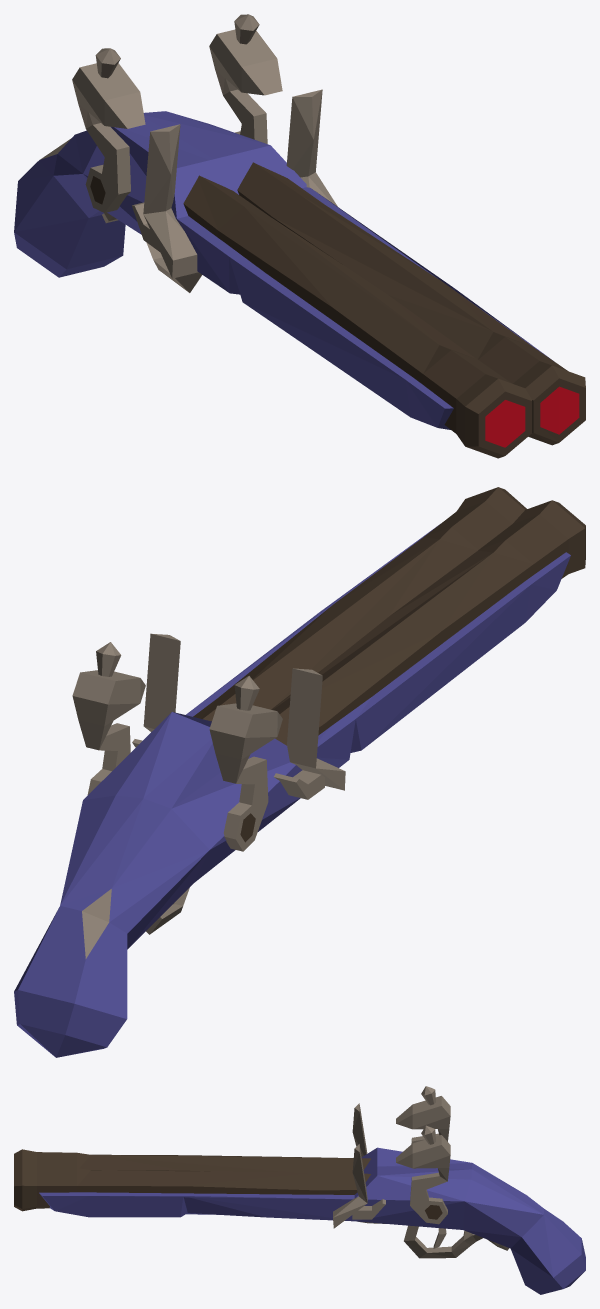
The model's file is SM_Wep_MusketPistol_DoubleBarrel_01_Separate.glb.
3 renders of one model, top to bottom at view 1: azimuth 30°, elevation 25°; view 2: azimuth 150°, elevation 25°; view 3: azimuth 270°, elevation 25°, orthographic. The views are drawn at different scales.
Visible parts, largest first — view 1: SM_Wep_MusketPistol_DoubleBarrel_01_Separate_00, SM_Wep_MusketPistol_DoubleBarrel_01_Separate_02, SM_Wep_MusketPistol_DoubleBarrel_01_Separate_01; view 2: SM_Wep_MusketPistol_DoubleBarrel_01_Separate_00, SM_Wep_MusketPistol_DoubleBarrel_01_Separate_02, SM_Wep_MusketPistol_DoubleBarrel_01_Separate_01; view 3: SM_Wep_MusketPistol_DoubleBarrel_01_Separate_00, SM_Wep_MusketPistol_DoubleBarrel_01_Separate_01, SM_Wep_MusketPistol_DoubleBarrel_01_Separate_02.
Part boxes in pixels (x1,y1,x2,y2): SM_Wep_MusketPistol_DoubleBarrel_01_Separate_00: (14,89,585,458); SM_Wep_MusketPistol_DoubleBarrel_01_Separate_02: (72,48,145,212); SM_Wep_MusketPistol_DoubleBarrel_01_Separate_01: (209,14,282,143); SM_Wep_MusketPistol_DoubleBarrel_01_Separate_00: (14,487,585,1057); SM_Wep_MusketPistol_DoubleBarrel_01_Separate_02: (209,676,282,851); SM_Wep_MusketPistol_DoubleBarrel_01_Separate_01: (72,642,145,794); SM_Wep_MusketPistol_DoubleBarrel_01_Separate_00: (14,1103,585,1294); SM_Wep_MusketPistol_DoubleBarrel_01_Separate_01: (396,1125,450,1224); SM_Wep_MusketPistol_DoubleBarrel_01_Separate_02: (396,1086,450,1144).
Bounding box in the file's own units: 0.1422 × 0.2461 × 0.6982.
Materials: 1 (1 with a texture image).
